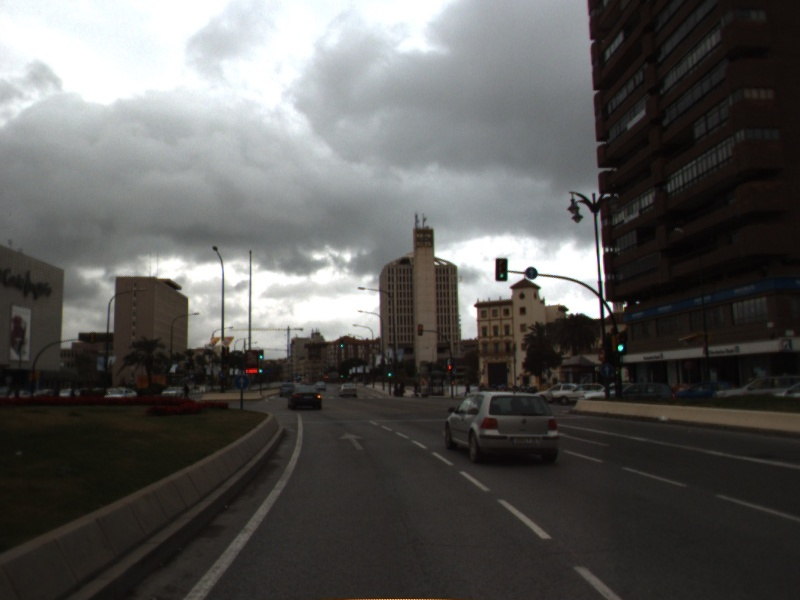STRAIGHT: (337, 430, 366, 452)
